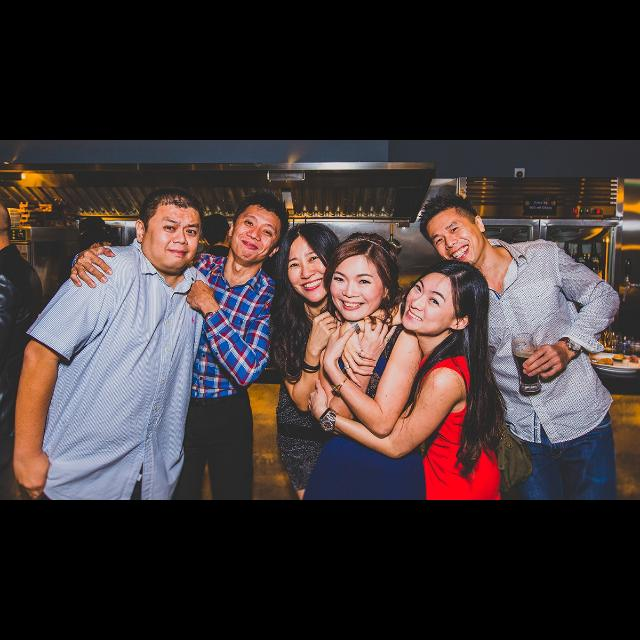head: (402, 260, 486, 336), (135, 186, 205, 274), (328, 232, 392, 322), (282, 222, 340, 304), (226, 194, 288, 264), (425, 200, 487, 268), (0, 198, 18, 240)
